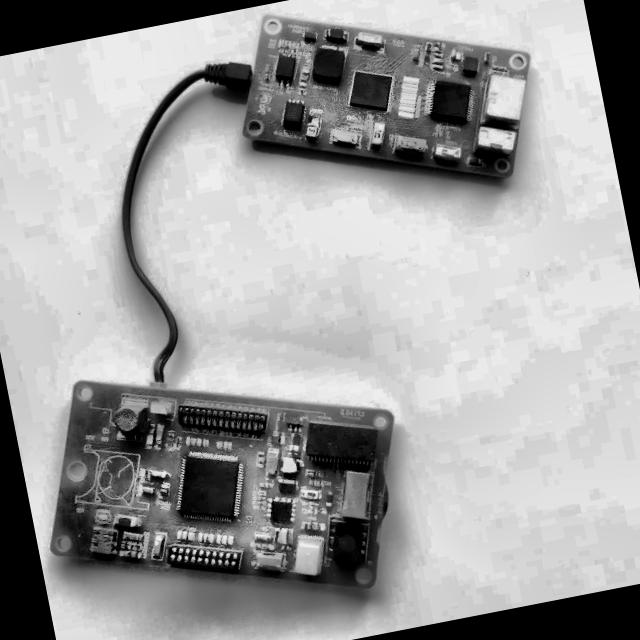Cable: (70, 39, 300, 386)
PCB: (18, 322, 426, 640), (218, 0, 557, 234)
